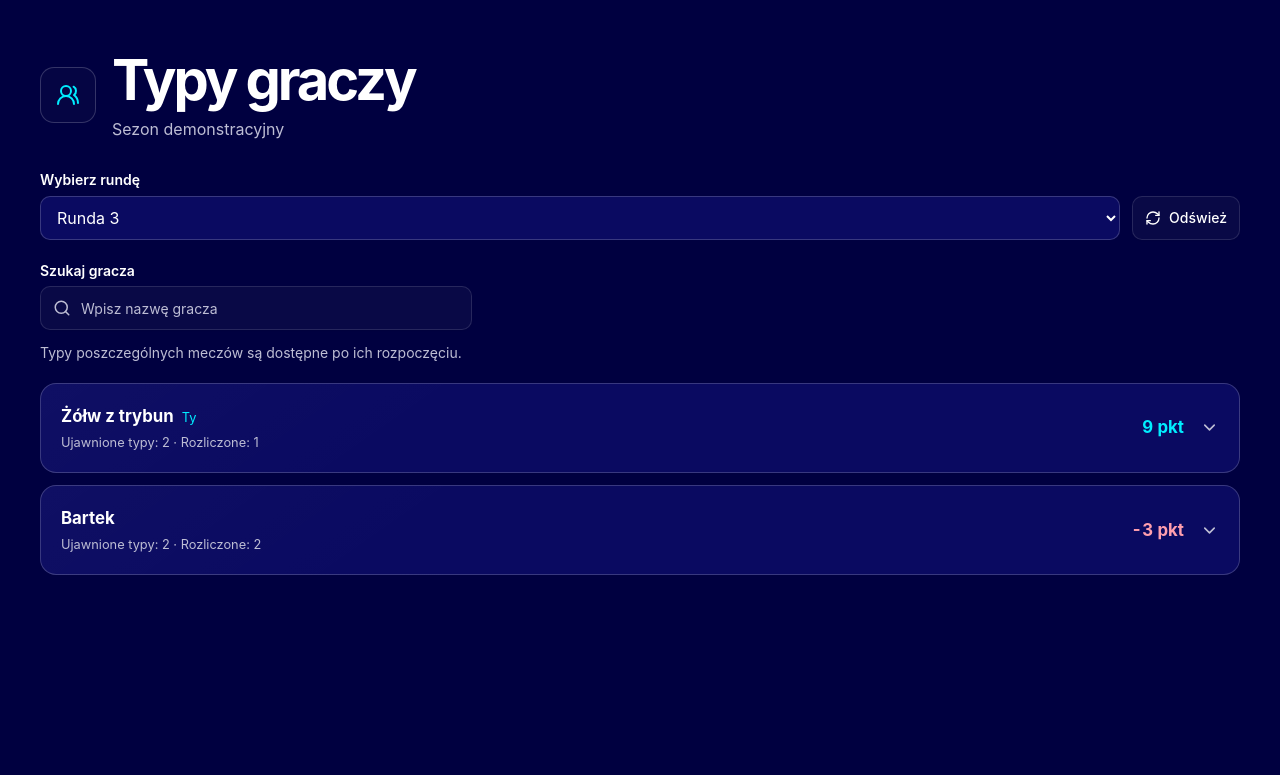
preserves expanded player and search during a failed refresh and refreshes match metadata
Click the button "Żółw z trybun": [117, 416] box x1=41 y1=384 x2=1239 y2=472
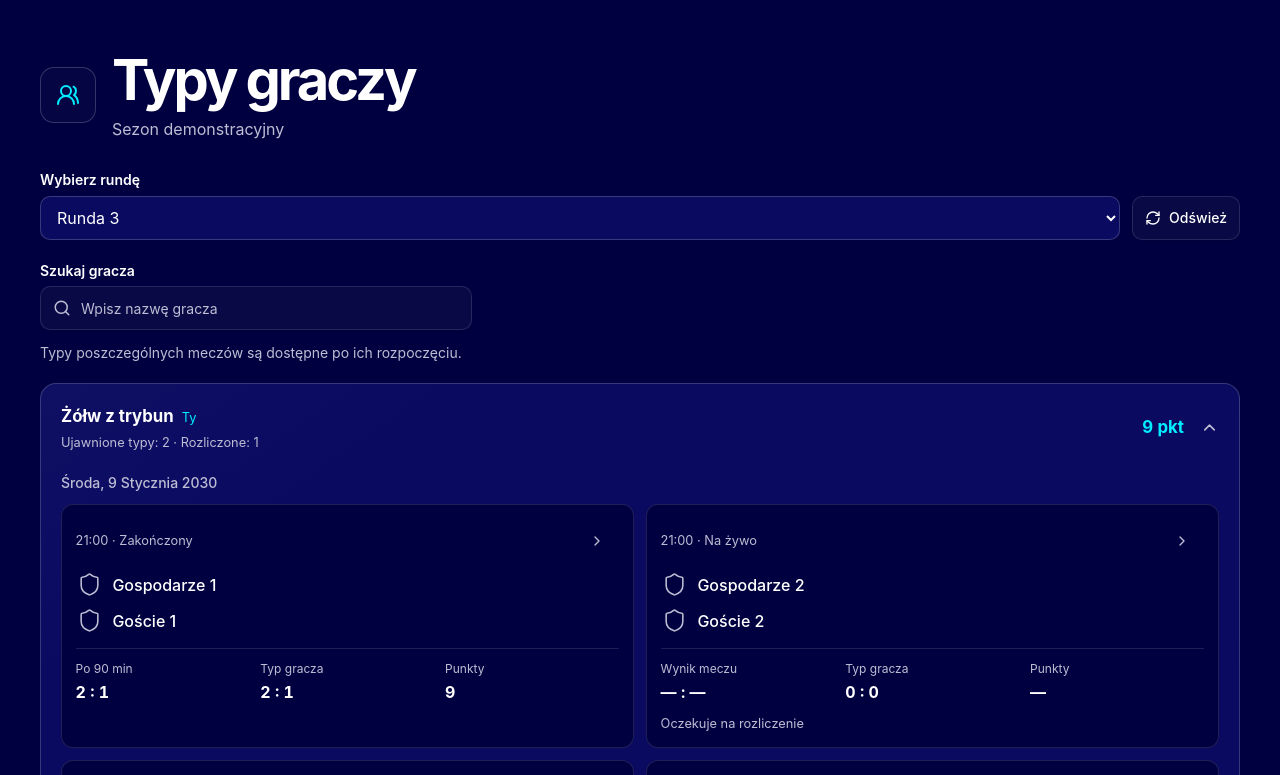
In the search field: [256, 308] box x1=40 y1=286 x2=472 y2=330, type "zolw"
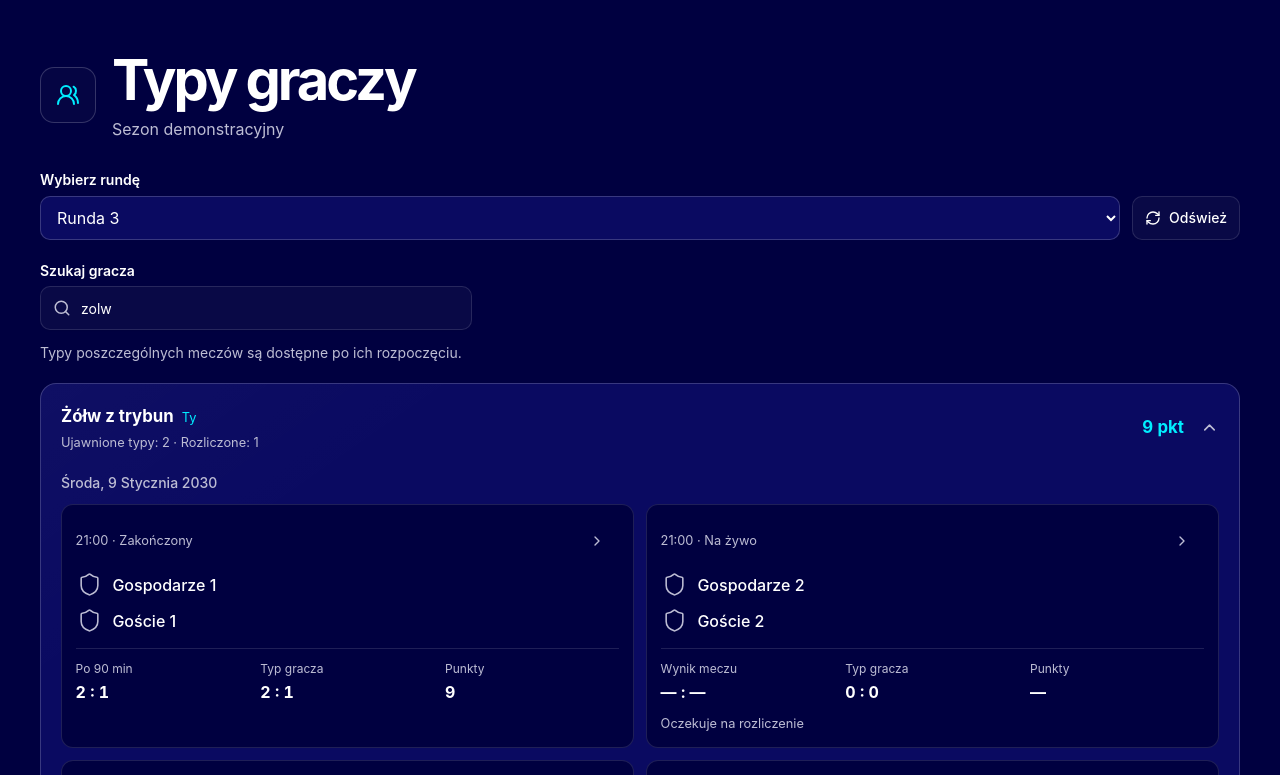
Click the button "Odśwież": [1186, 218] box x1=1132 y1=196 x2=1240 y2=240
(page scrolled)
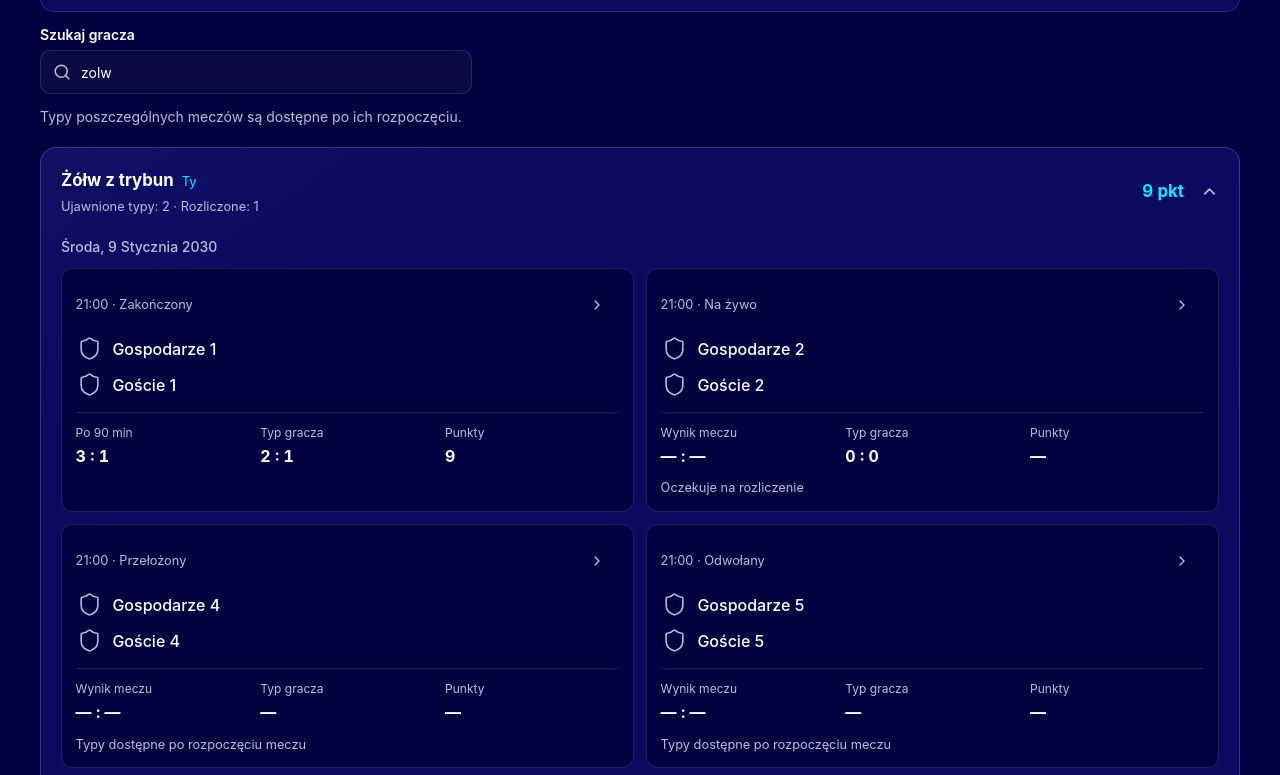
Now the button "Żółw z trybun" is expanded, box x1=41 y1=148 x2=1239 y2=236
Now the text "3 : 1" is shown, box x1=76 y1=446 x2=109 y2=466
